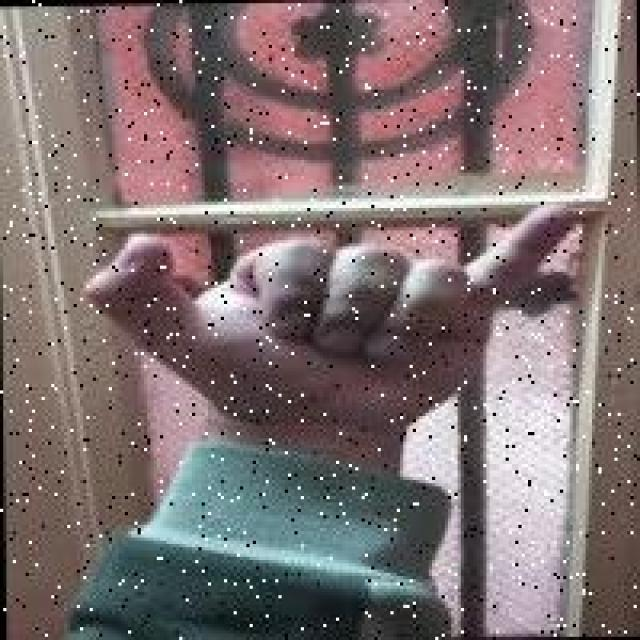Y: (77, 190, 592, 450)
